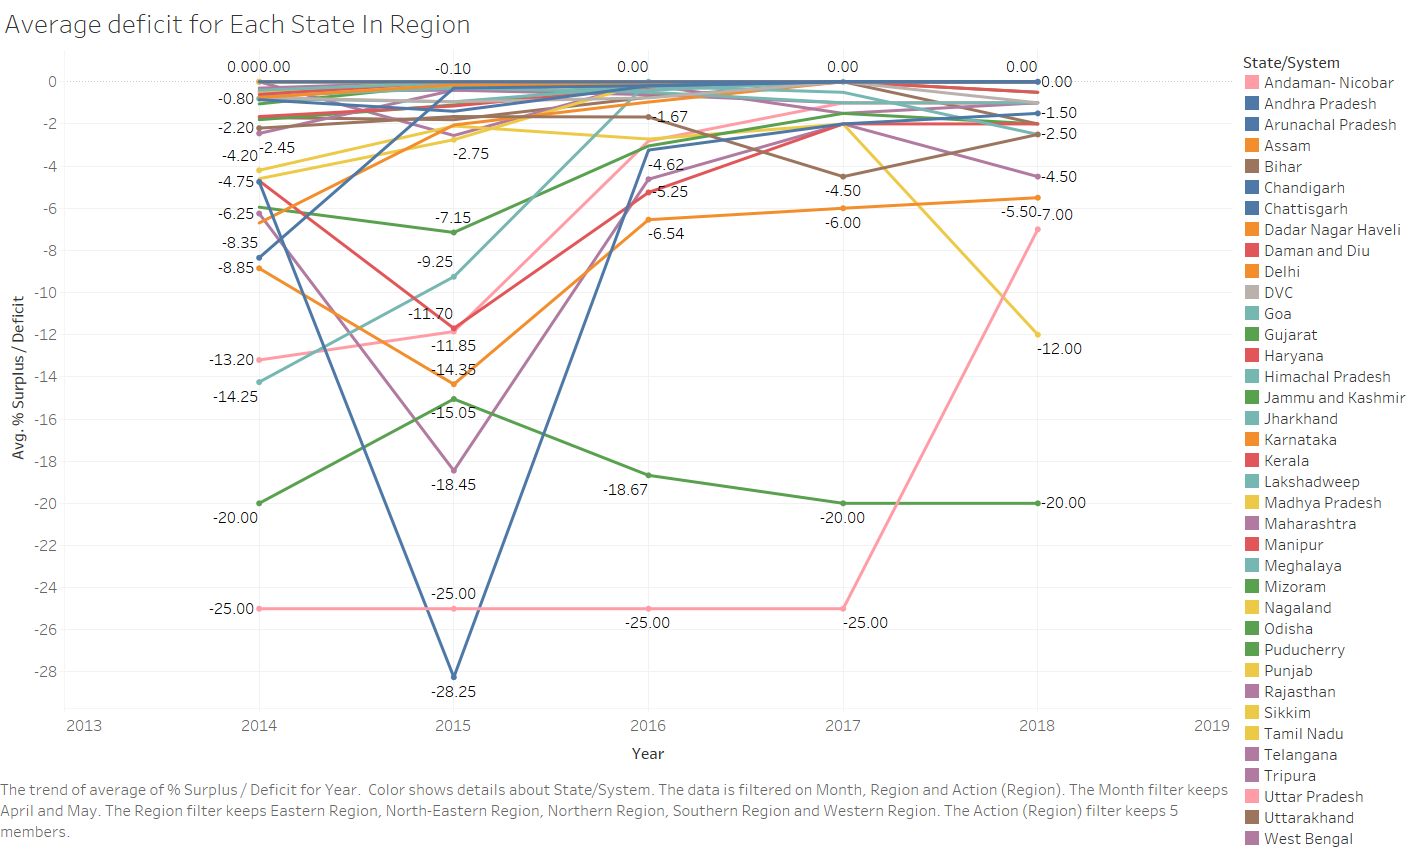

The dashboard page shown, as its layout file describes it:
{"tool":"tableau","page":{"name":"Average Deficit for every Region","canvas":[1000,800],"ordinal":0},"visuals":[{"type":"worksheet","title":"Average deficit for Each State In Region","mark":"Automatic","rows":["% Surplus / Deficit"],"cols":["Year"],"box":[8,8,824,784]},{"type":"filter","title":"Average deficit for Each State In Region","param":"[federated.17gt29408rv4sd1elzkct1py564u].[none:Region:nk]","box":[832,8,160,174]},{"type":"legend","title":"Average deficit for Each State In Region","param":"[federated.17gt29408rv4sd1elzkct1py564u].[none:State/System:nk]","box":[832,182,160,610]}]}

Visuals, with their boxes on the page's 1000x800 design canvas (x1, y1, x2, y2). These are canvas units, not pixel positions in the 1411x849 screenshot, which may show the page scaled, cropped or inside an application window:
"Average deficit for Each State In Region" worksheet: <region>8, 8, 832, 792</region>
"Average deficit for Each State In Region" filter: <region>832, 8, 992, 182</region>
"Average deficit for Each State In Region" legend: <region>832, 182, 992, 792</region>
